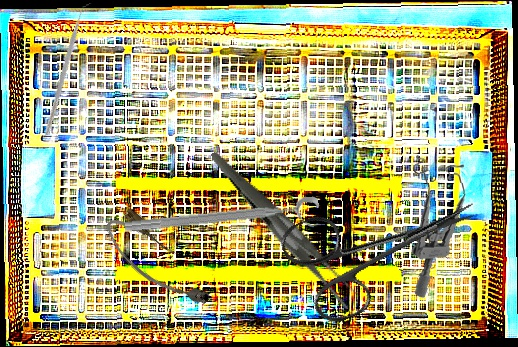Cannula: (98, 203, 217, 322)
Chopper: (13, 2, 126, 136)
Dressing Forceps: (210, 122, 362, 334)
Fixation Ring: (123, 195, 322, 249)
Iris Scissors: (275, 157, 496, 332)
Speculum: (402, 149, 476, 299)
